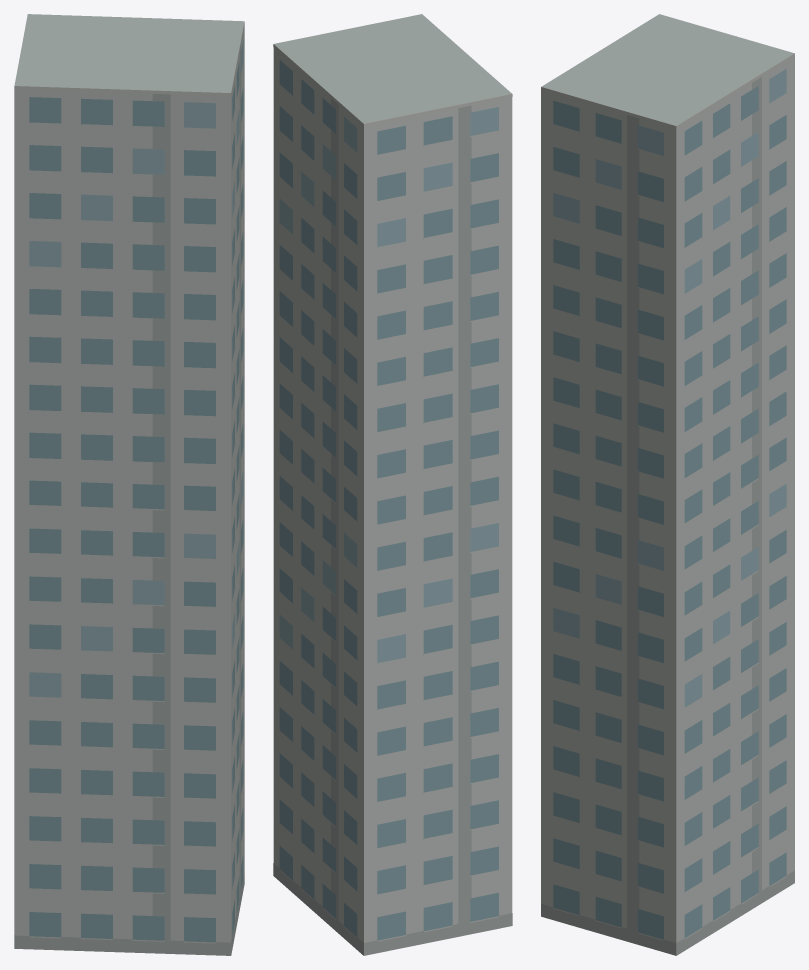
The model's file is residential-7a0a63c9-b244-4a91-9fd0-ada288f6500d.glb.
3 renders of one model, left to right at view 1: azimuth 30°, elevation 25°; view 2: azimuth 150°, elevation 25°; view 3: azimuth 270°, elevation 25°, orthographic. The views are drawn at different scales.
Visible parts, largest first — view 1: residential-7a0a63c9-b244-4a91-9fd0-ada288f6500d.tmp; view 2: residential-7a0a63c9-b244-4a91-9fd0-ada288f6500d.tmp; view 3: residential-7a0a63c9-b244-4a91-9fd0-ada288f6500d.tmp.
Boxes of the visible parts, x1,y1,x2,y2 form: residential-7a0a63c9-b244-4a91-9fd0-ada288f6500d.tmp: [14, 14, 244, 955]; residential-7a0a63c9-b244-4a91-9fd0-ada288f6500d.tmp: [273, 14, 512, 955]; residential-7a0a63c9-b244-4a91-9fd0-ada288f6500d.tmp: [541, 14, 794, 955].
Bounding box in the file's own units: 18.27 × 63 × 17.46.
